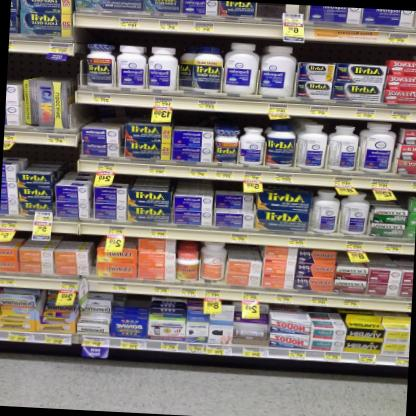empty_space: (254, 2, 308, 21)
